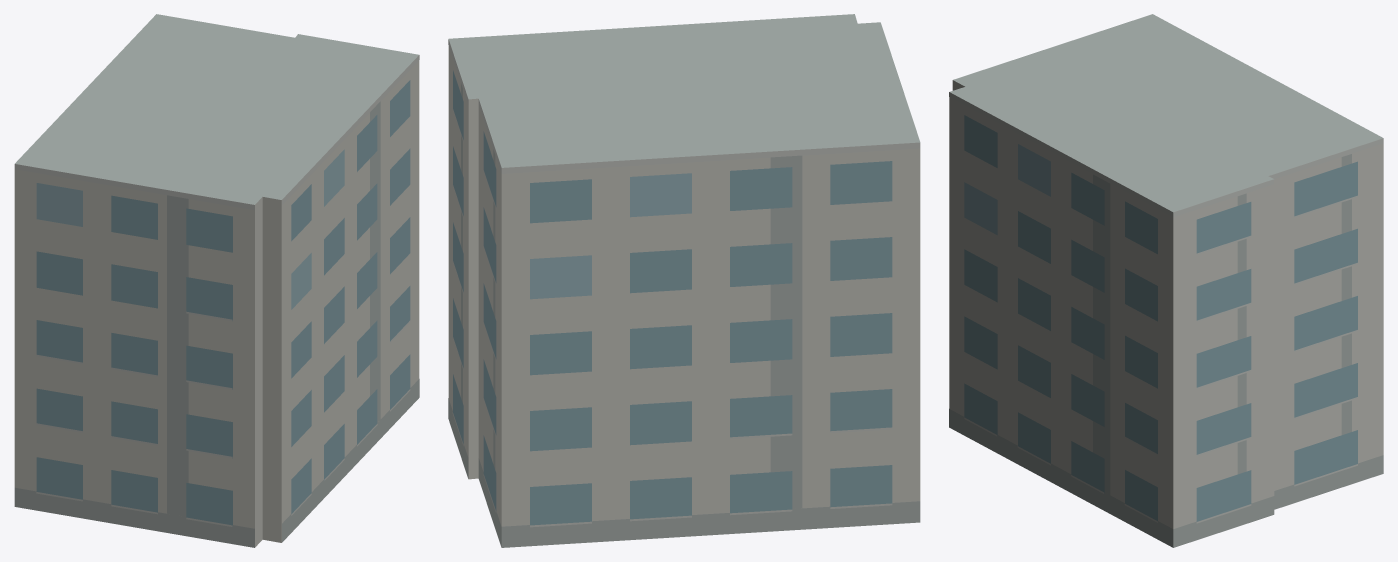
The model's file is survey-upis-32757241.glb.
3 renders of one model, left to right at view 1: azimuth 30°, elevation 25°; view 2: azimuth 150°, elevation 25°; view 3: azimuth 270°, elevation 25°, orthographic. The views are drawn at different scales.
Parts seen in each view (by area): view 1: survey-upis-32757241.tmp; view 2: survey-upis-32757241.tmp; view 3: survey-upis-32757241.tmp.
Boxes of the visible parts, x1=… form: survey-upis-32757241.tmp: x1=14, y1=14, x2=419, y2=547; survey-upis-32757241.tmp: x1=448, y1=14, x2=920, y2=547; survey-upis-32757241.tmp: x1=949, y1=14, x2=1383, y2=547.
Bounding box in the file's own units: 20.04 × 15.8 × 18.55.
